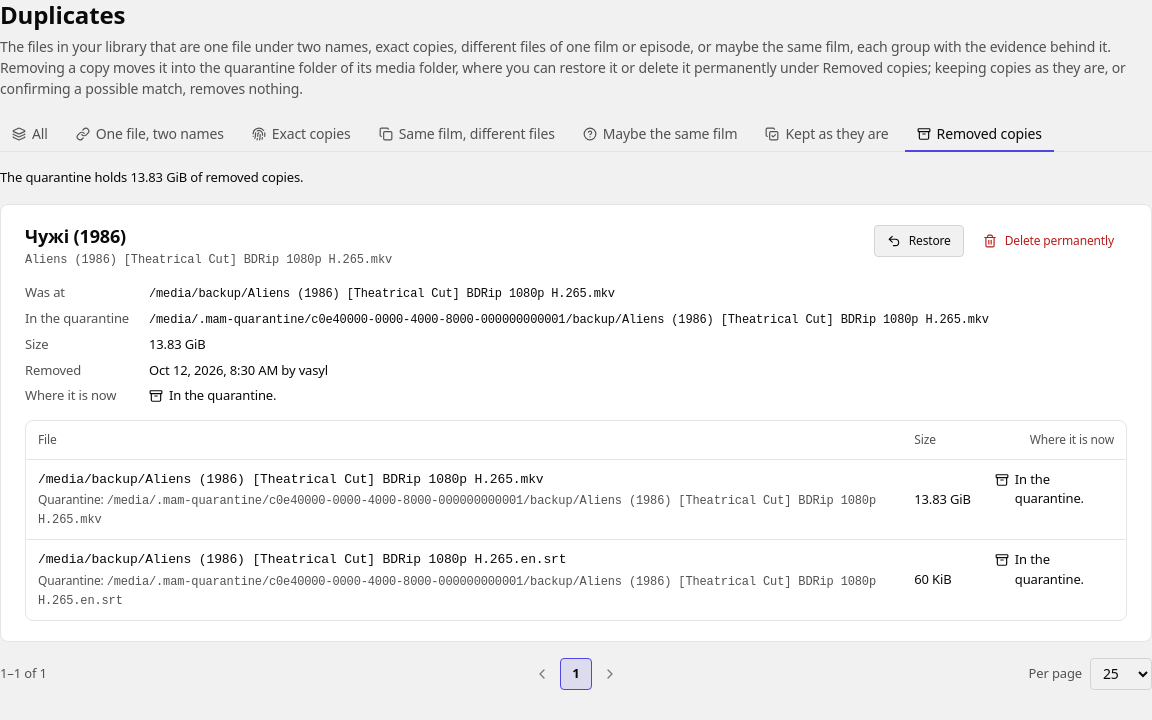
Scenario: DuplicatesPage Removed copies › sends nothing when the owner cancels the restore
Click the button "Restore". click: (919,240)
box: [874, 224, 964, 256]
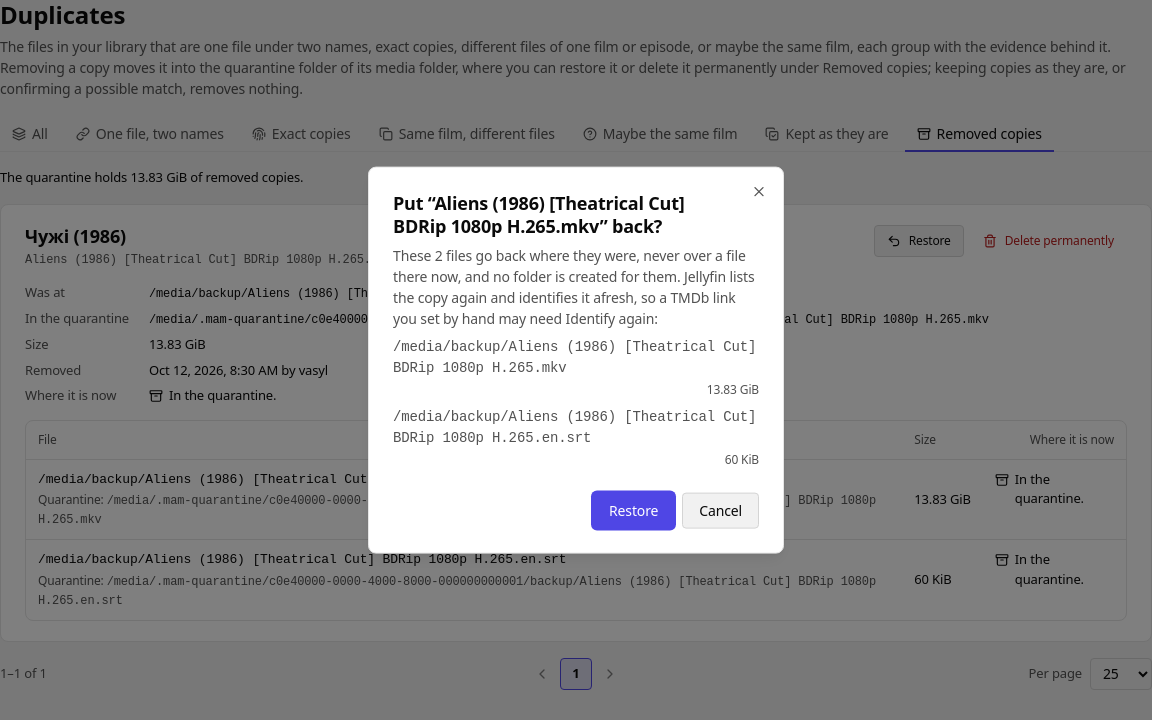
Click the button "Cancel". click: (721,510)
box: [682, 492, 759, 528]
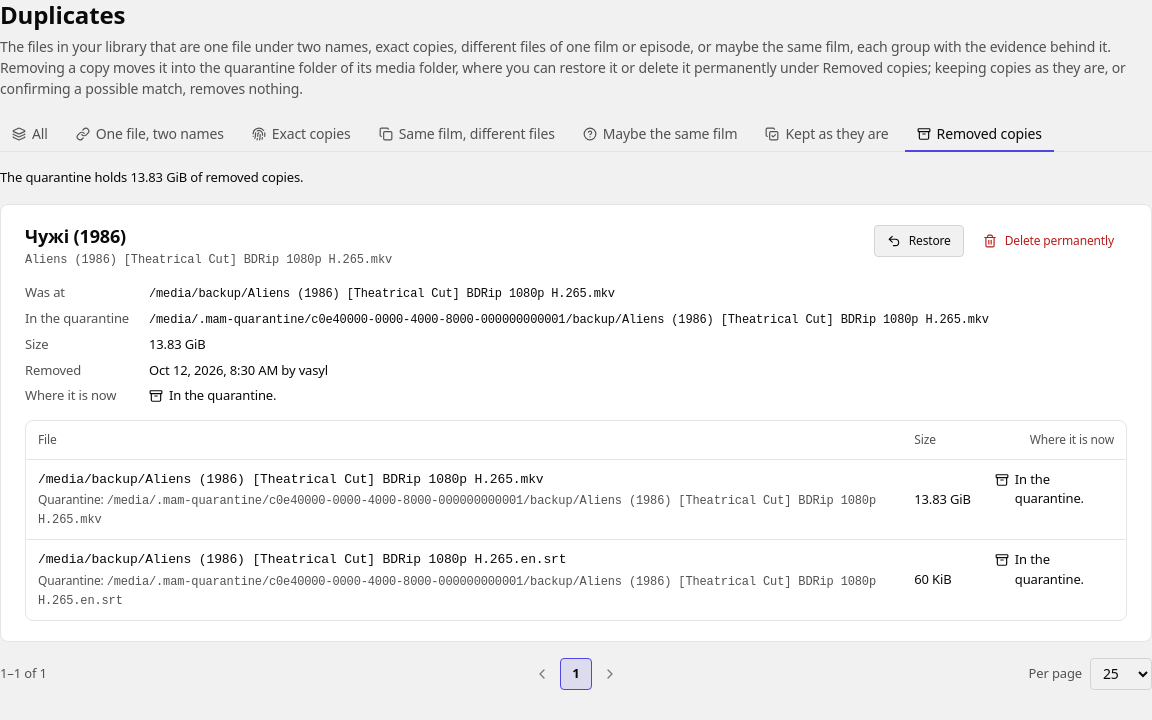
Expected: the dialog is gone
